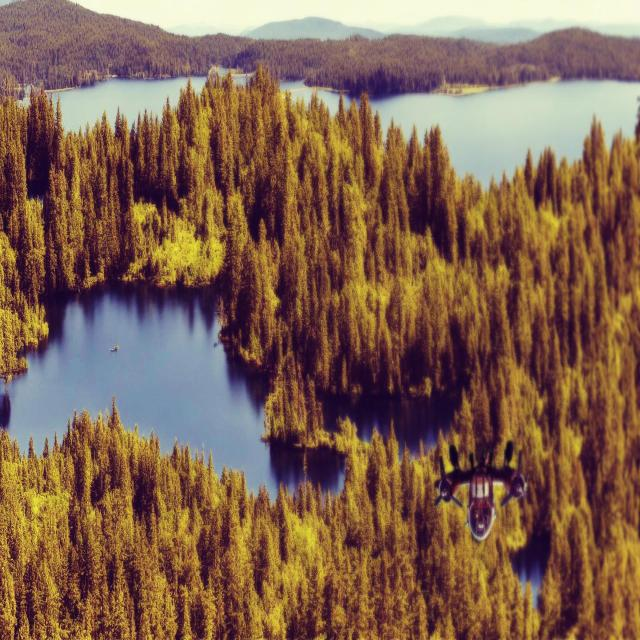airplane: (433, 439, 527, 542)
